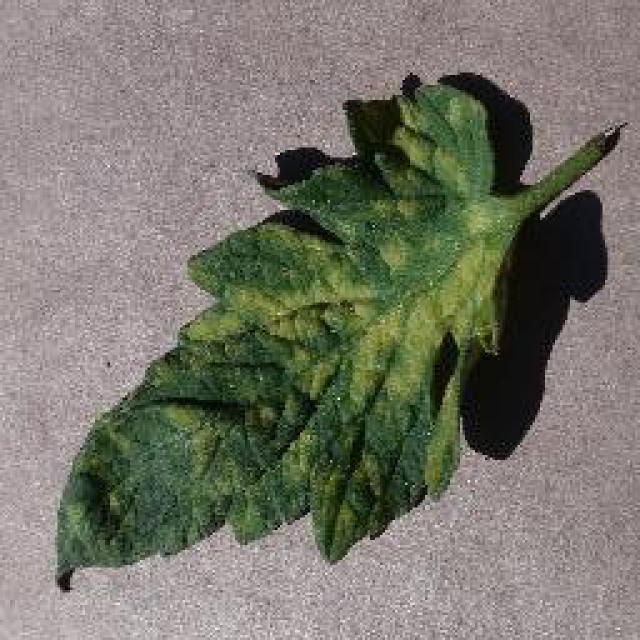Tomato mold leaf: (51, 78, 521, 592)
